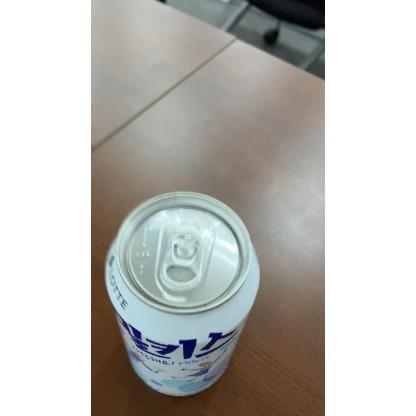Can: (106, 192, 262, 396)
